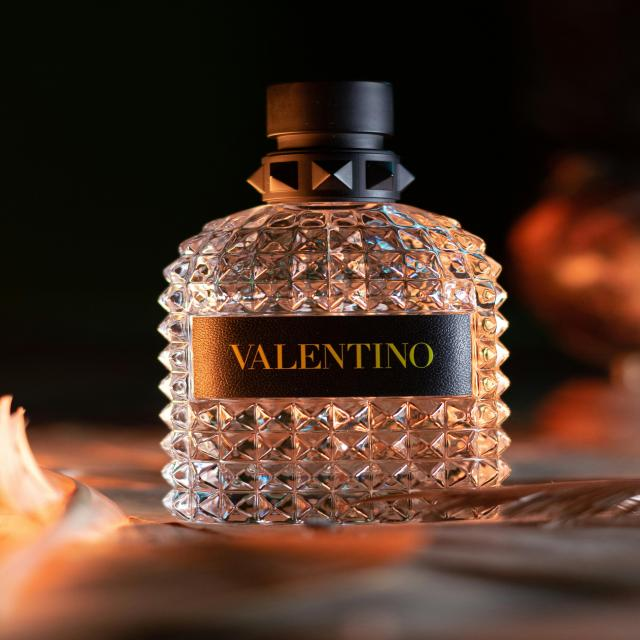electronic: (154, 75, 514, 532)
